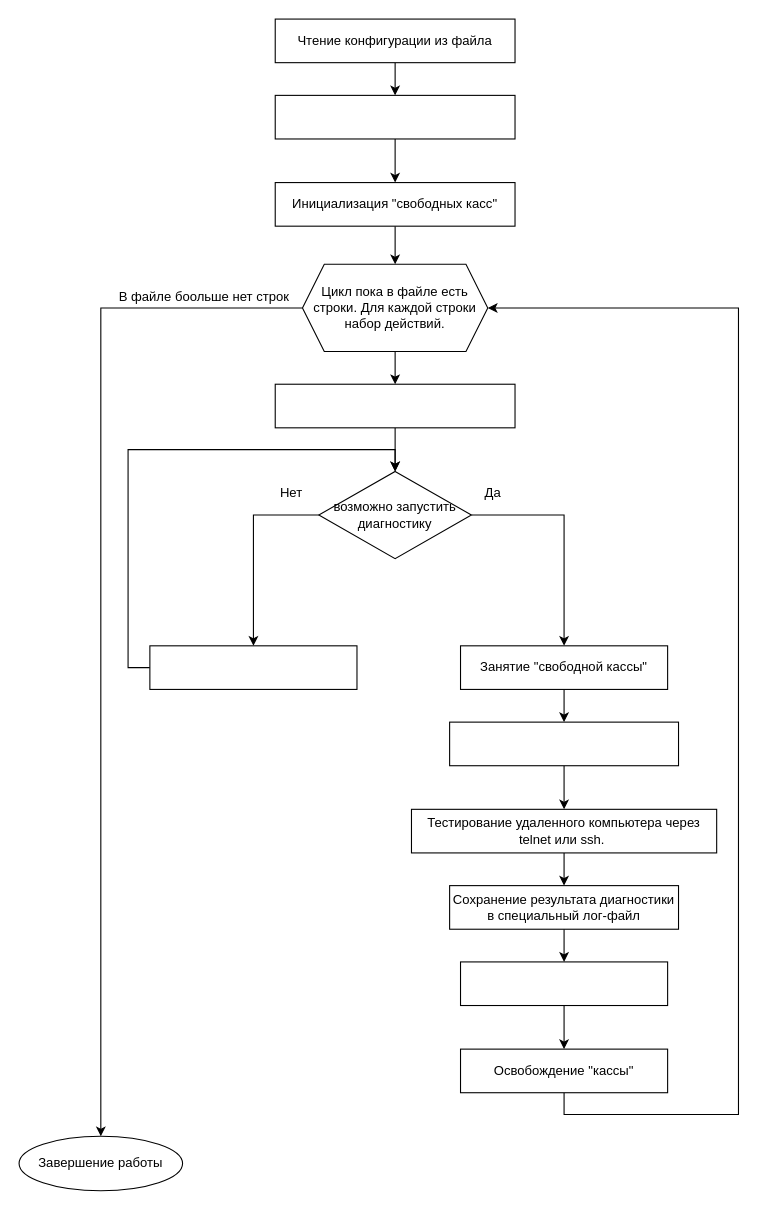
This 766x1210 diagram has some shape labels left out. Each missing label, with the box of its shape:
Вывод сообщения на экран: (459, 961, 668, 1006)
Выделение внутреннего ip адреса: (274, 383, 515, 428)
Запуск очередного процесса диагностики: (449, 721, 679, 766)
Ожидание "свободной кассы": (149, 645, 357, 689)
Чтение файла с исходной информацией: (274, 94, 515, 139)
